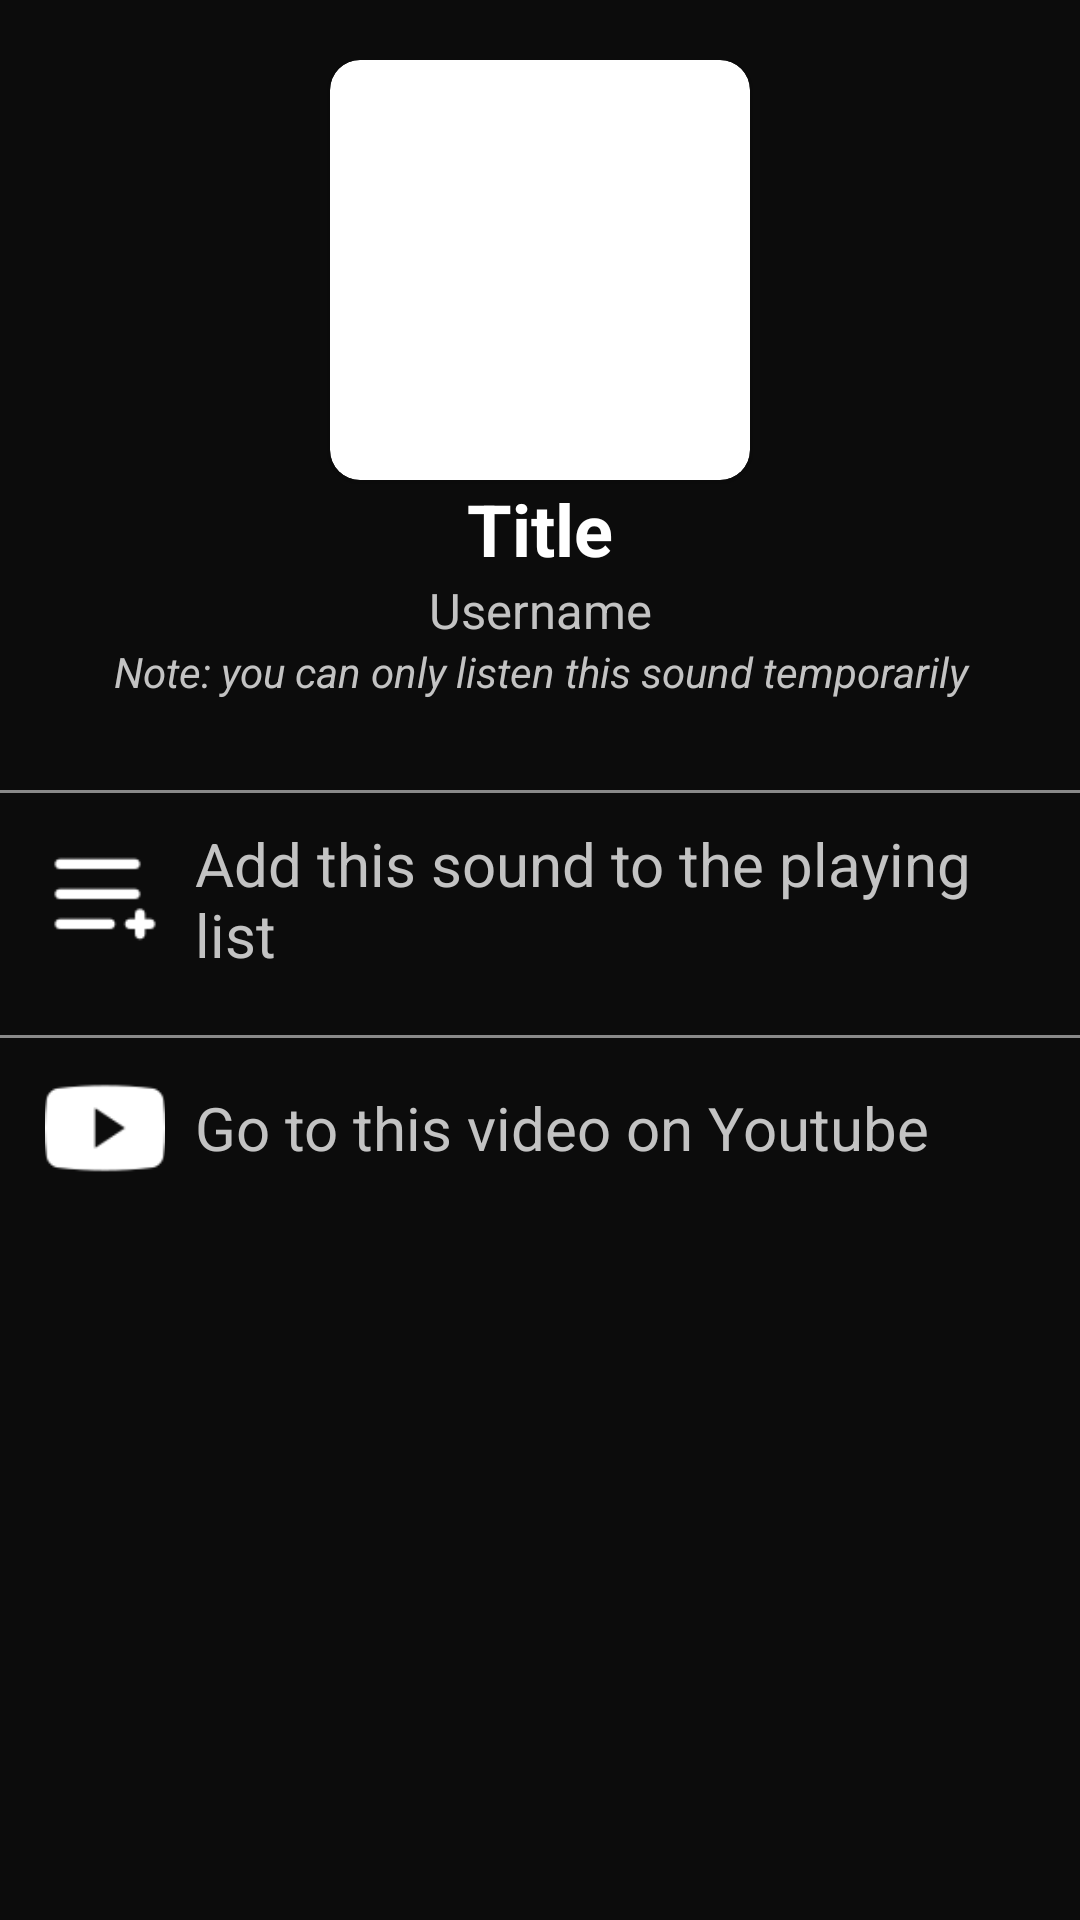

Where to tap for icons on this 1080w x 1920h app screen, as (x,y):
add to nextup: (105,898)
